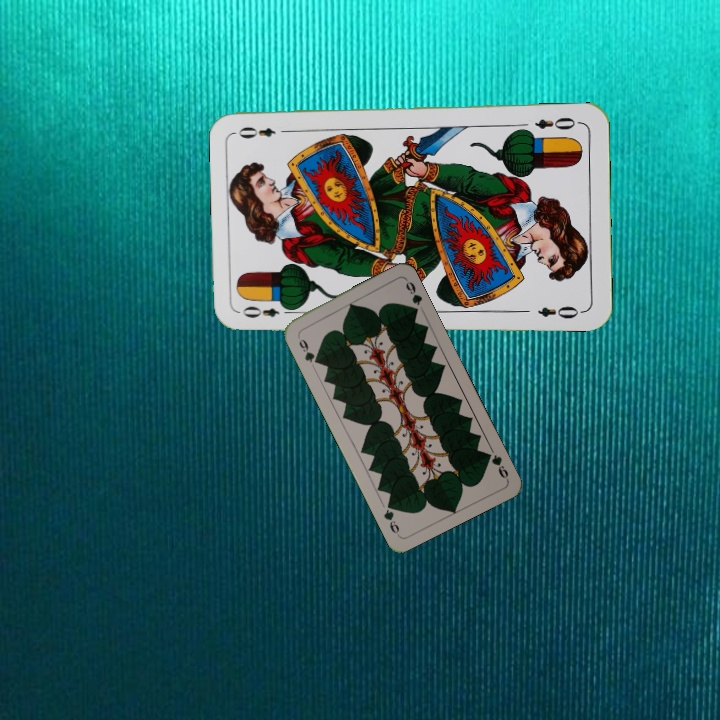EO: (238, 301, 296, 320), (531, 113, 583, 132)
G9: (481, 448, 511, 482), (293, 331, 321, 366)
